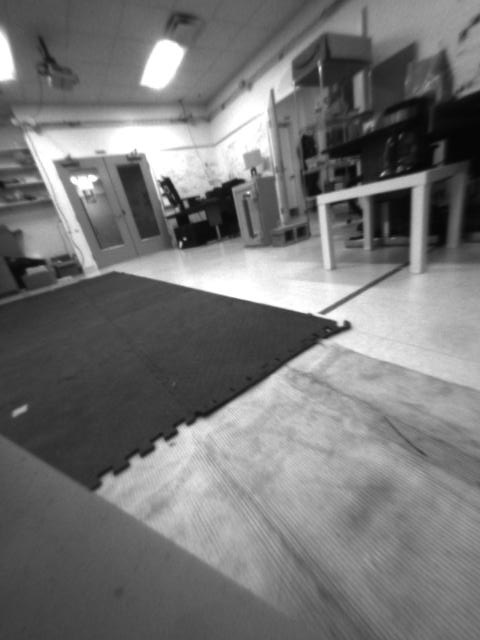coffee_pot: (377, 92, 435, 174)
